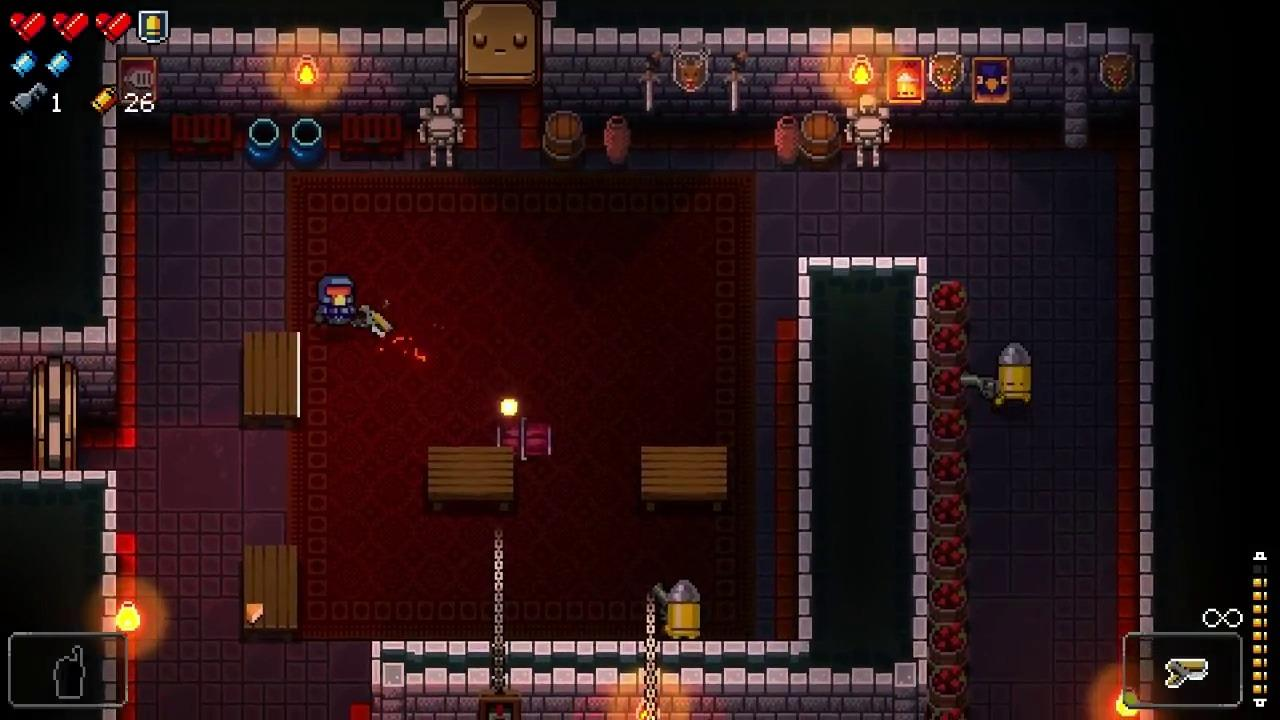bullet_kin: (997, 340, 1034, 405), (668, 578, 700, 639)
locked_door: (457, 0, 543, 86), (32, 357, 78, 471)
player: (317, 272, 355, 327)
table: (642, 446, 727, 514), (242, 331, 300, 429), (429, 446, 514, 512), (243, 544, 297, 643)
